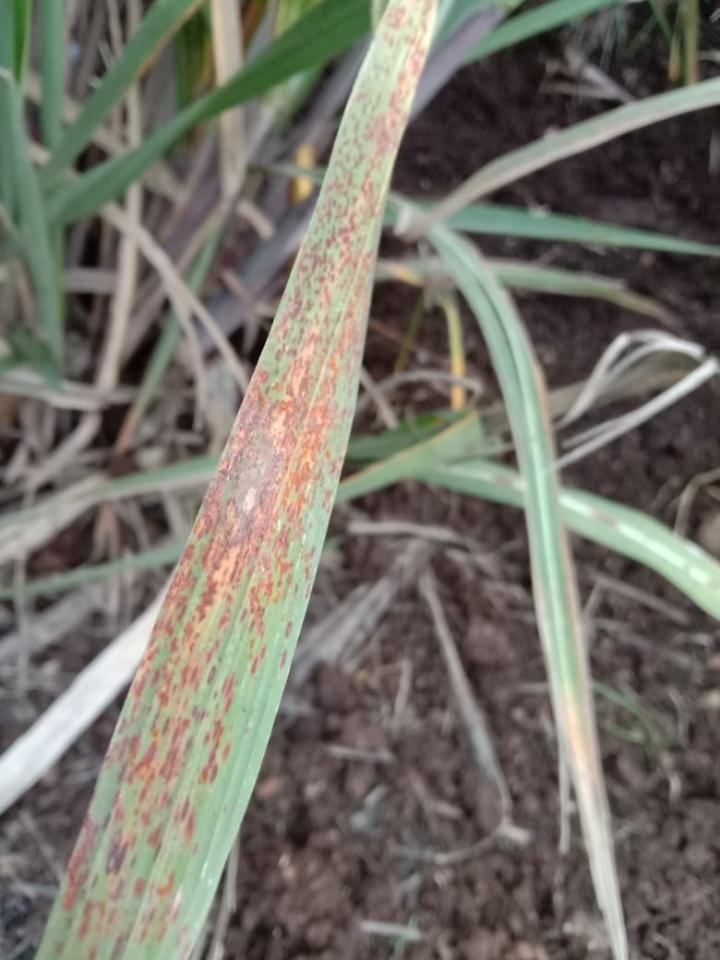Rust: (49, 0, 436, 959), (278, 617, 296, 671)
